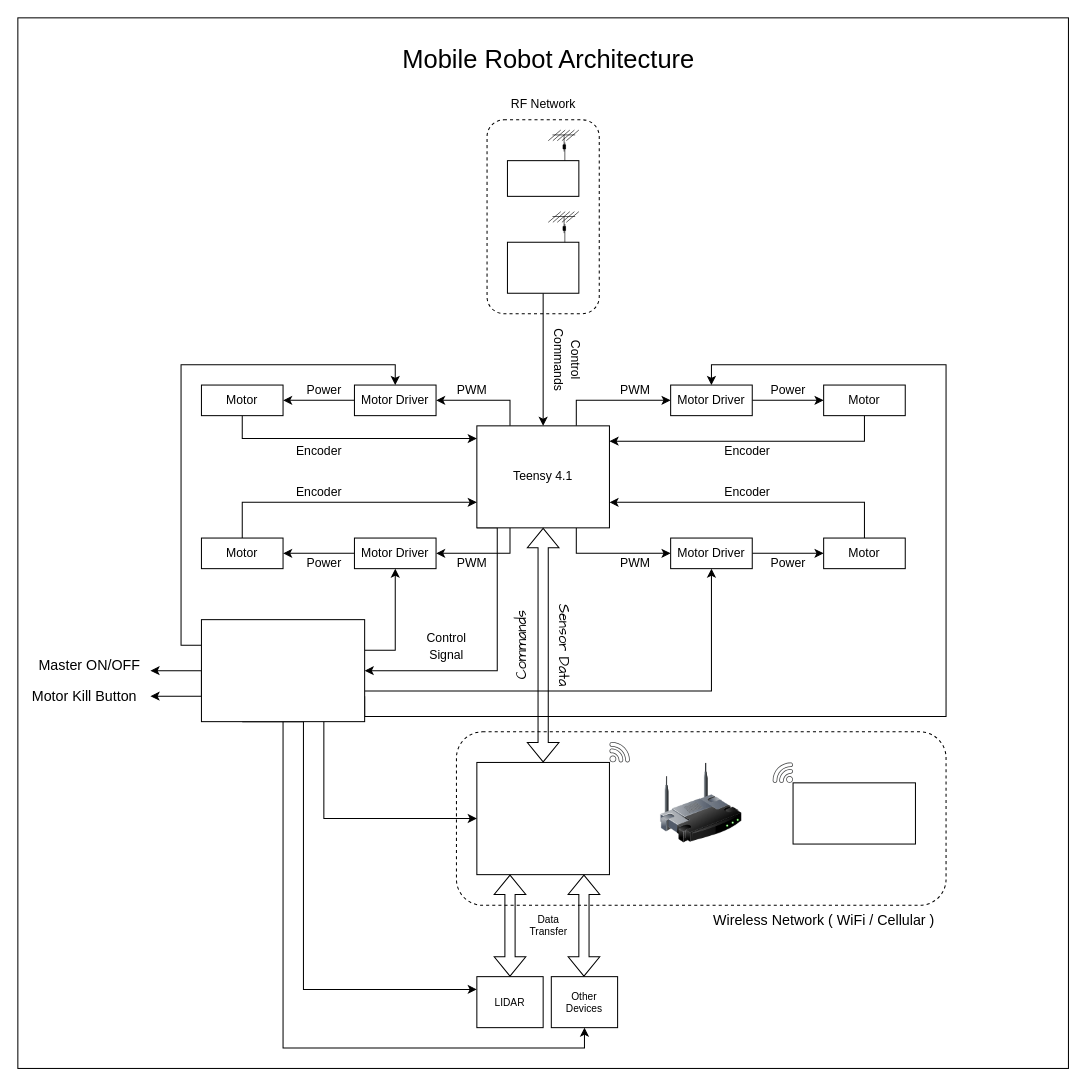
The diagram is 1086 pixels wide and 1086 high, and some of its shapes have lost their labels. The shapes that lost their labels are listed below. From the top down, each one's centre as x and y in pixels, then its label:
point 542,178: RF Transmitter
point 542,267: RF Receiver
point 282,670: Power Distribution Board
point 542,818: Edge Computing Device ( SBC )
point 853,813: Remote Desktop
